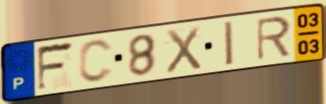8: (126, 32, 159, 79)
C: (77, 38, 116, 85)
F: (35, 39, 77, 94)
I: (222, 19, 236, 69)
R: (255, 15, 293, 63)
X: (164, 24, 204, 76)
